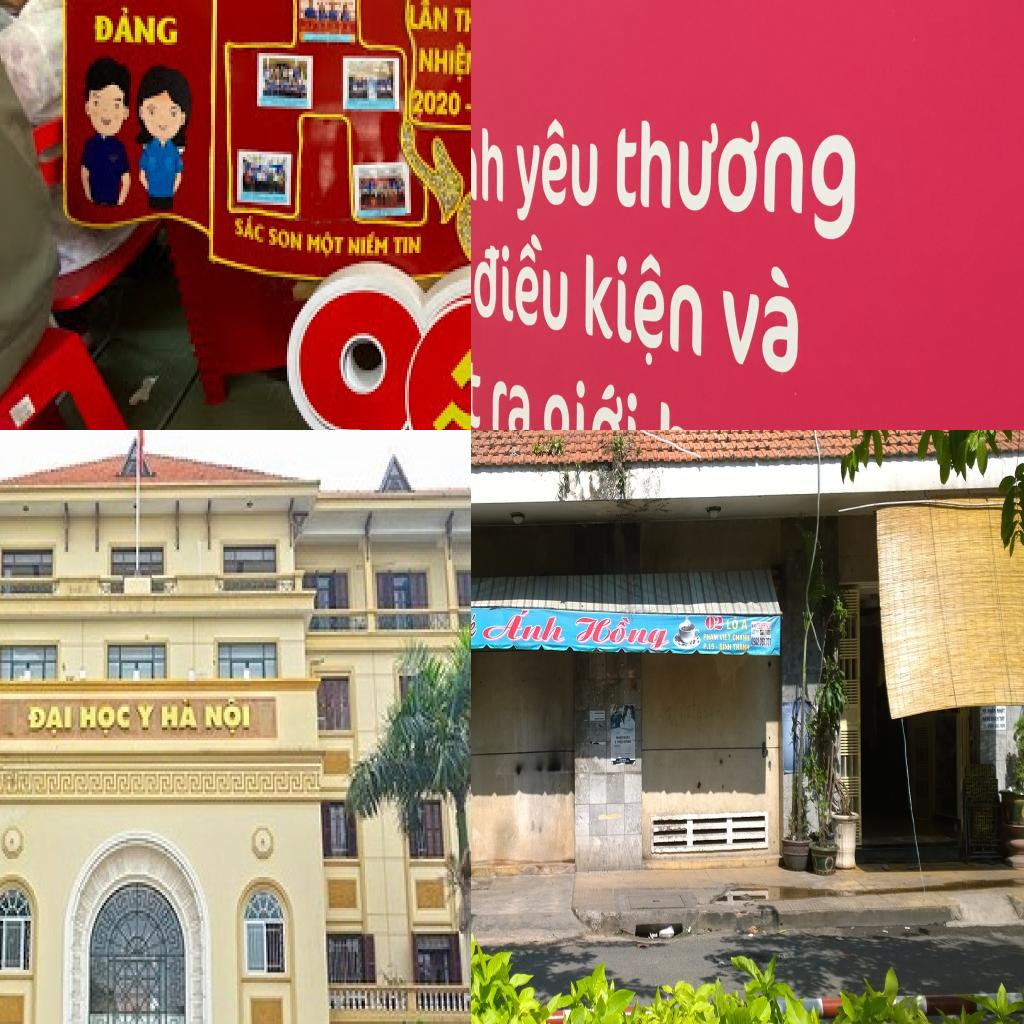text: (611, 115, 859, 244), (293, 271, 471, 430), (579, 244, 709, 376), (472, 232, 572, 337), (510, 115, 600, 227), (717, 262, 800, 374), (529, 364, 644, 430), (653, 394, 783, 430), (573, 610, 674, 654), (91, 5, 181, 50), (480, 608, 568, 648), (471, 119, 506, 207), (419, 39, 471, 87), (488, 374, 532, 430), (75, 699, 134, 740), (25, 699, 75, 740), (157, 696, 203, 738), (407, 88, 463, 120), (407, 0, 451, 37), (305, 229, 347, 264), (235, 205, 267, 248), (347, 229, 389, 261), (267, 221, 305, 256), (136, 699, 158, 738), (391, 234, 423, 258), (453, 0, 471, 36), (471, 604, 481, 649), (704, 613, 724, 632), (751, 637, 772, 647), (726, 614, 739, 630), (732, 632, 750, 642), (703, 632, 720, 642), (733, 642, 750, 652), (718, 642, 732, 652), (986, 723, 1006, 730), (719, 632, 731, 642), (740, 617, 748, 631), (987, 707, 997, 715), (708, 642, 716, 651), (757, 622, 766, 630), (982, 715, 991, 723), (997, 707, 1005, 715), (465, 101, 471, 111), (991, 715, 999, 722), (702, 642, 708, 651), (766, 622, 772, 630), (624, 738, 632, 744), (999, 715, 1005, 722), (982, 723, 988, 730), (982, 707, 987, 715), (616, 735, 623, 740), (617, 740, 624, 745), (623, 735, 631, 739), (614, 740, 616, 744), (716, 646, 718, 649)
